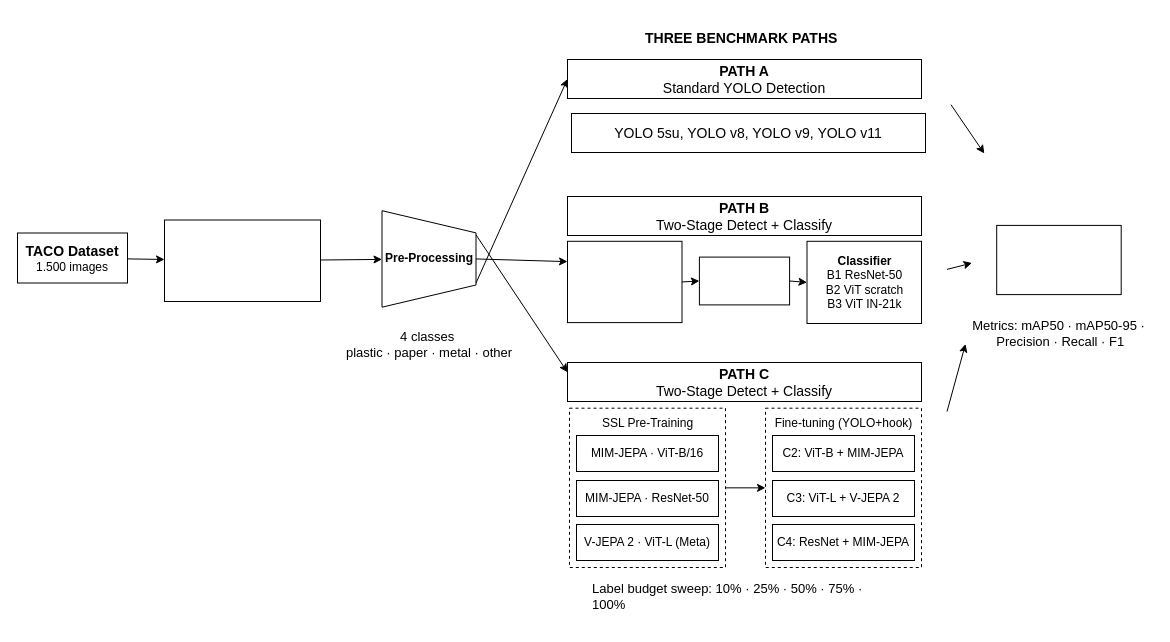
Image size: 1170x642. Some labels were removed from this diagram. Here are the shapes that lost their labels. From the top down, the centre of each, then its label:
At pixel 242 260: "Data Augmentation 9.519 images · 22.362 ann.".
At pixel 1058 259: "Evaluation".
At pixel 624 281: "Detector YOLOv8m FROZEN".
At pixel 744 280: "Bounding Boxes".
